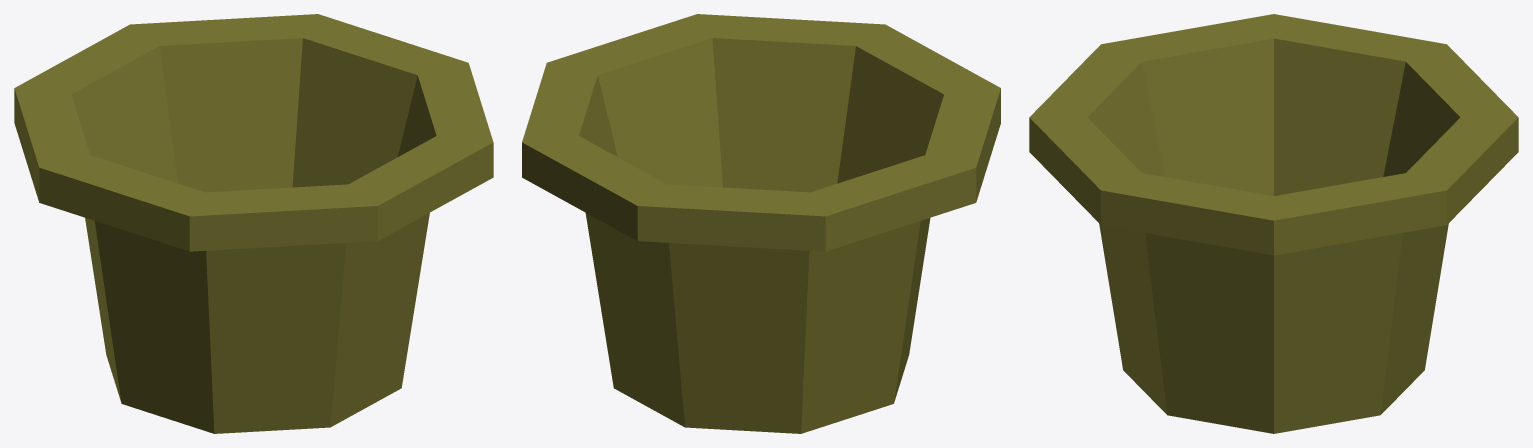
File: Pot_8.fbx
The picture shows the model from 3 angles, left to right: view 1: azimuth 30°, elevation 25°; view 2: azimuth 150°, elevation 25°; view 3: azimuth 270°, elevation 25°; orthographic projection.
Visible parts, largest first — view 1: Pot_8; view 2: Pot_8; view 3: Pot_8.
Boxes of the visible parts, box(x1,y1,x2,y2) form: Pot_8: box(14, 14, 493, 433); Pot_8: box(522, 14, 1000, 433); Pot_8: box(1029, 14, 1518, 433).
Size of the model in its own units: 35.44 by 35.44 by 20.21.
